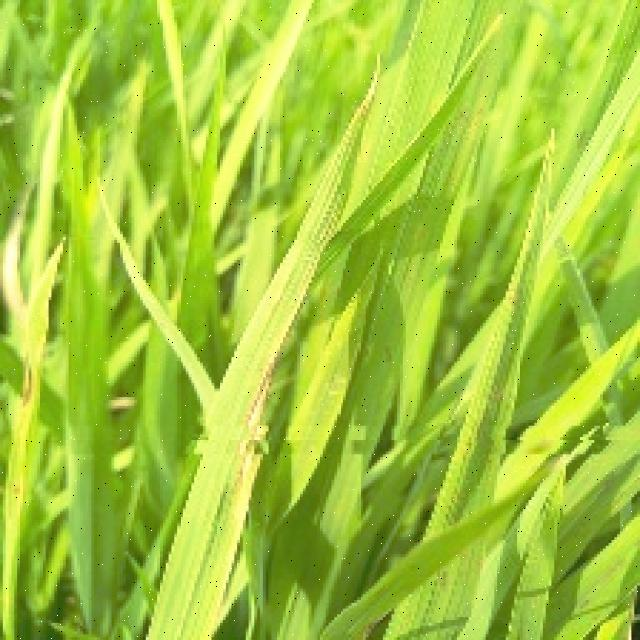unhealth: (143, 63, 379, 640)
